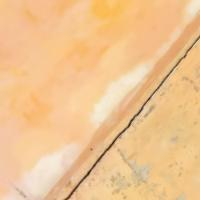crack: (43, 33, 199, 199)
